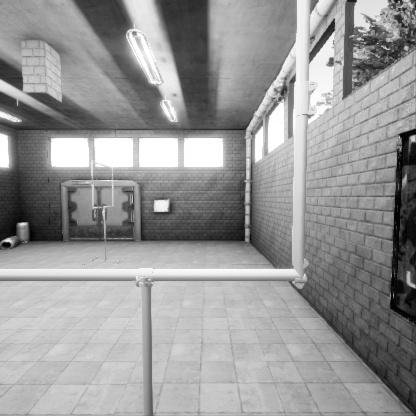gate: (91, 209, 114, 257)
